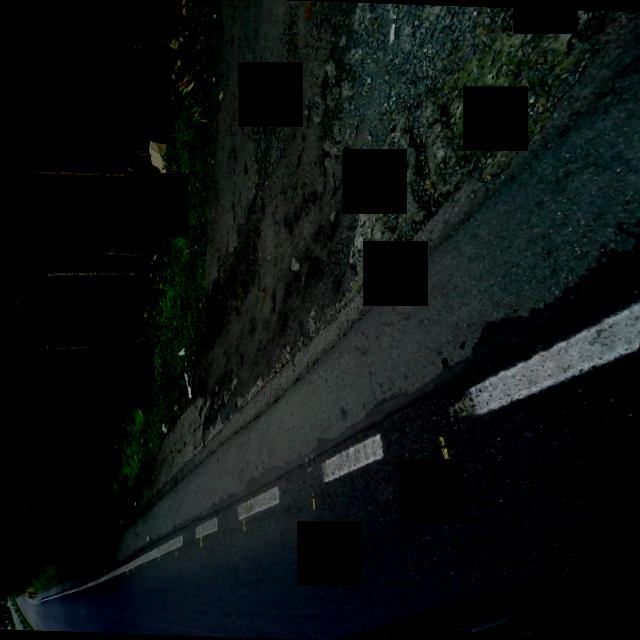DITCH: (18, 0, 640, 629), (32, 0, 640, 586)
